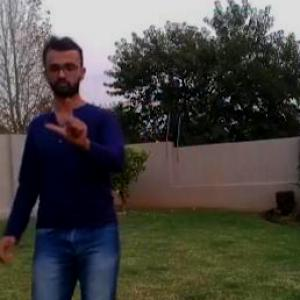land_hand: (42, 93, 91, 149)
